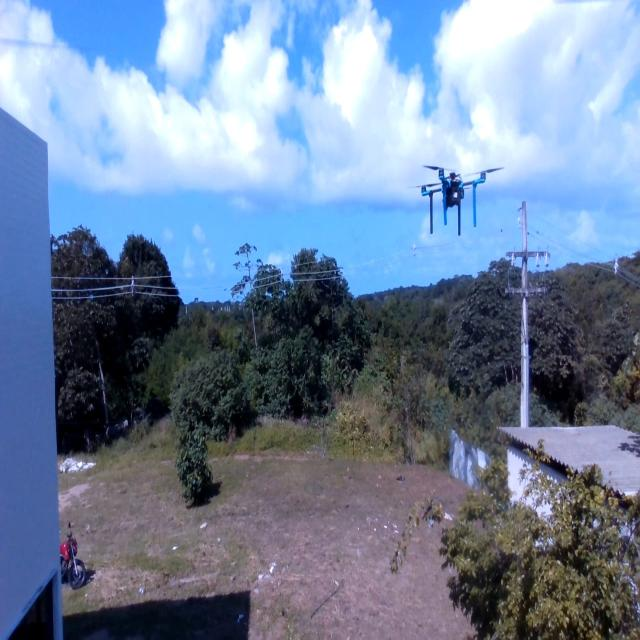-uav-: (401, 148, 501, 250)
